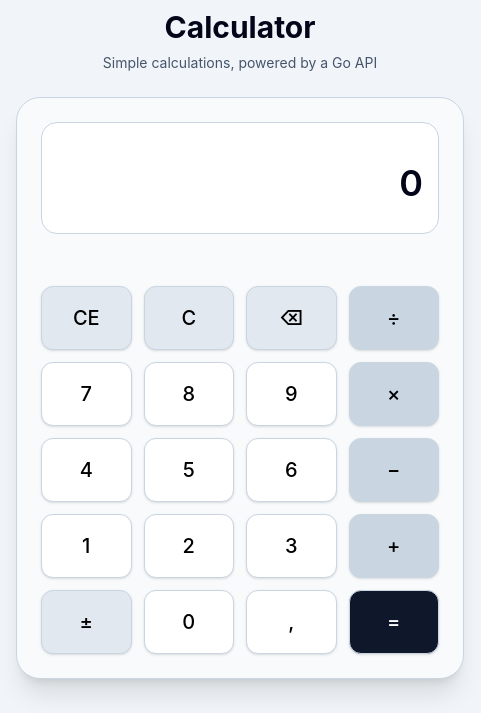
Test: Calculator › calculations › performs addition through the calculator API
This screenshot has width=481, height=713.
Click the button "8": click(189, 394) [144,362,234,426]
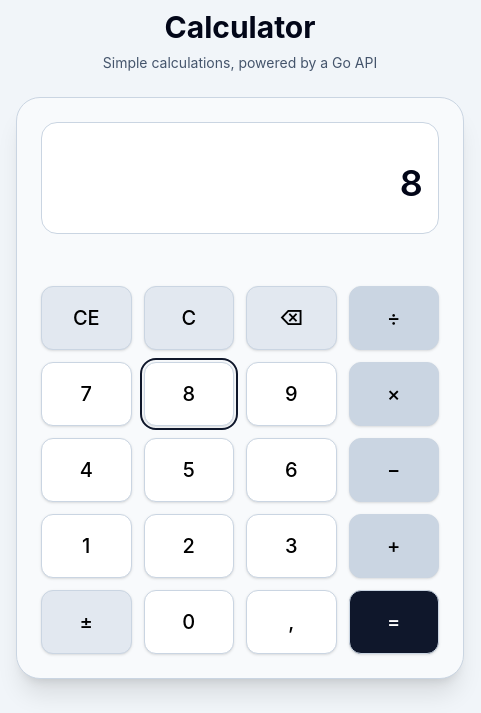
Click the button named "Add": click(394, 546) [348,514,439,578]
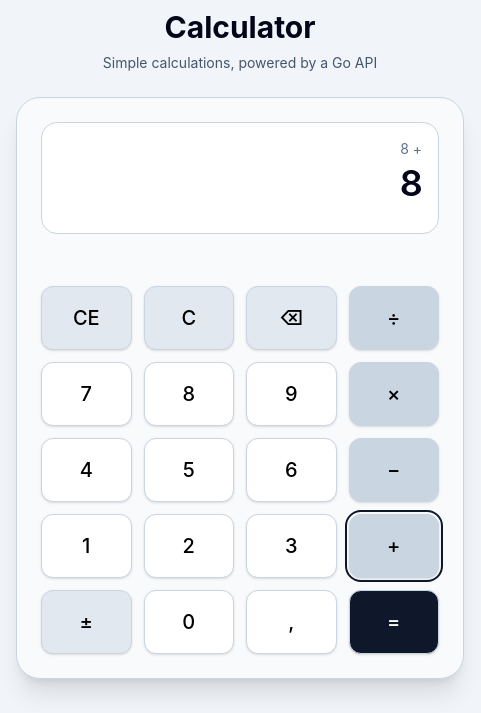
Click the button "2": click(189, 546) [144,514,234,578]
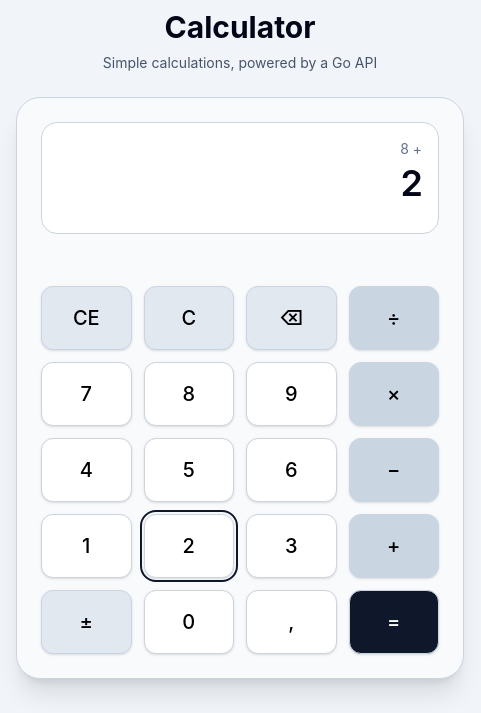
Click the button named "Calculate result": click(394, 622) [348,590,439,654]
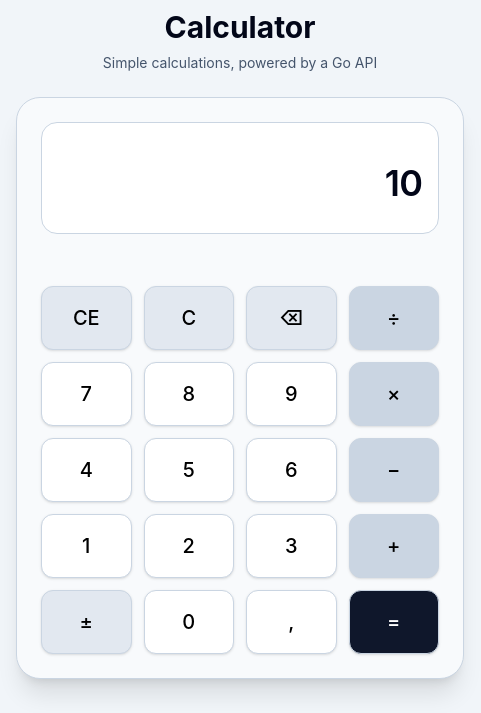
Expected: the text named "Calculator display" reads "10", [385,161,422,205]
